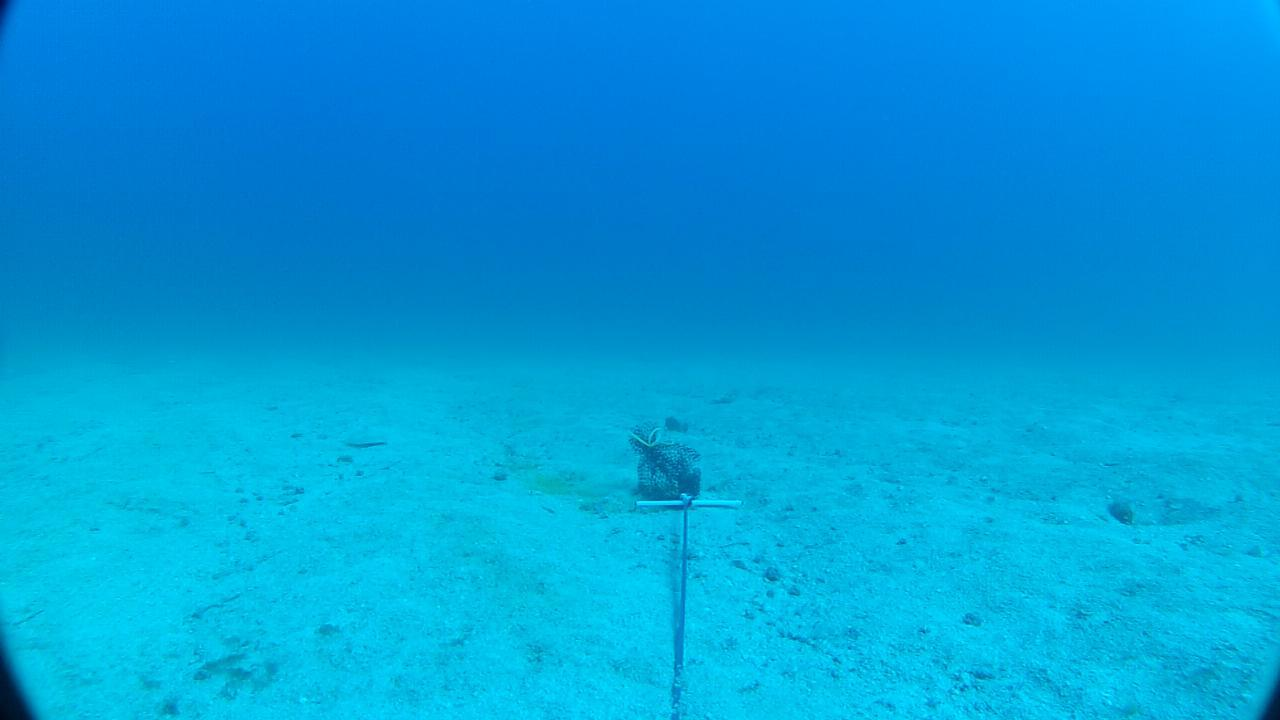bothus: (338, 430, 388, 450)
